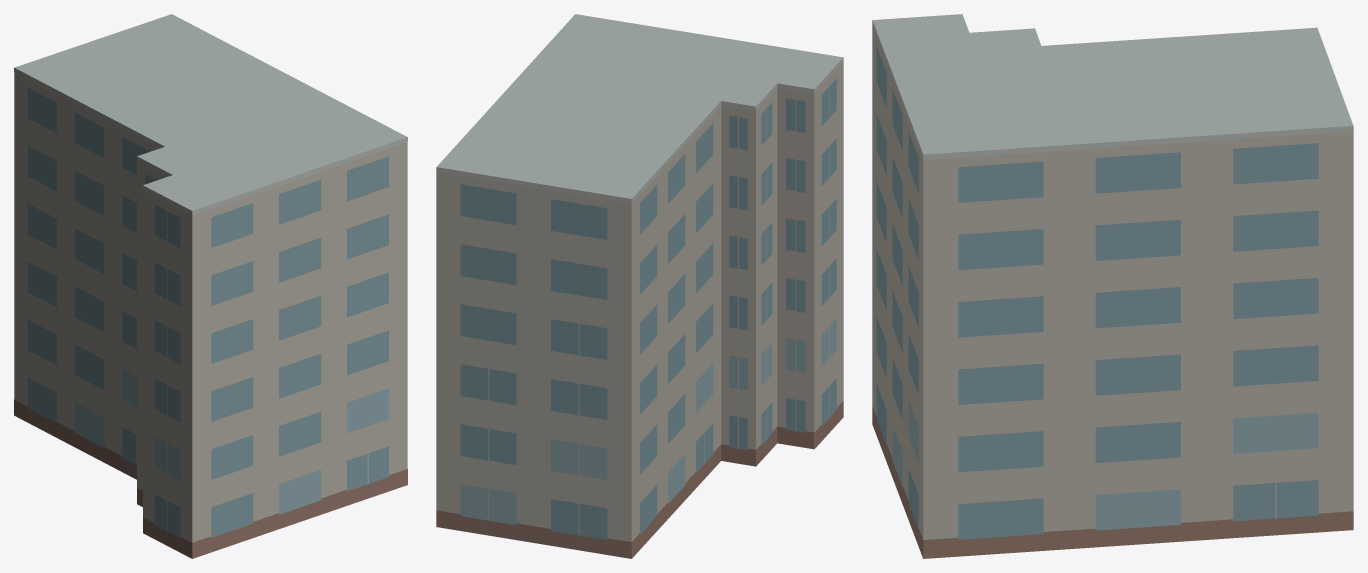
Rendered from survey-upis-32989159.glb.
3 views of the same model, side by side, from view 1: azimuth 30°, elevation 25°; view 2: azimuth 150°, elevation 25°; view 3: azimuth 270°, elevation 25° (orthographic). The views are drawn at different scales.
Visible parts, largest first — view 1: survey-upis-32989159.tmp; view 2: survey-upis-32989159.tmp; view 3: survey-upis-32989159.tmp.
Boxes of the visible parts, <box> form: survey-upis-32989159.tmp: <box>14,14,407,558</box>; survey-upis-32989159.tmp: <box>436,14,843,558</box>; survey-upis-32989159.tmp: <box>872,14,1353,558</box>.
Bounding box in the file's own units: 13.36 × 17.9 × 19.32.
